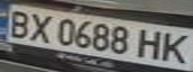0: (51, 16, 78, 47)
6: (72, 19, 93, 49)
8: (109, 24, 136, 56), (90, 20, 112, 53)
B: (3, 7, 33, 39)
H: (133, 26, 166, 61)
K: (157, 29, 193, 64)
X: (24, 10, 57, 43)
